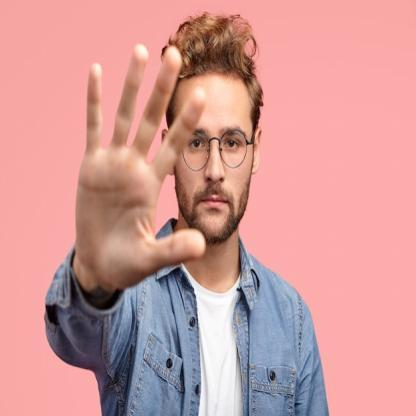stop: (68, 40, 213, 286)
